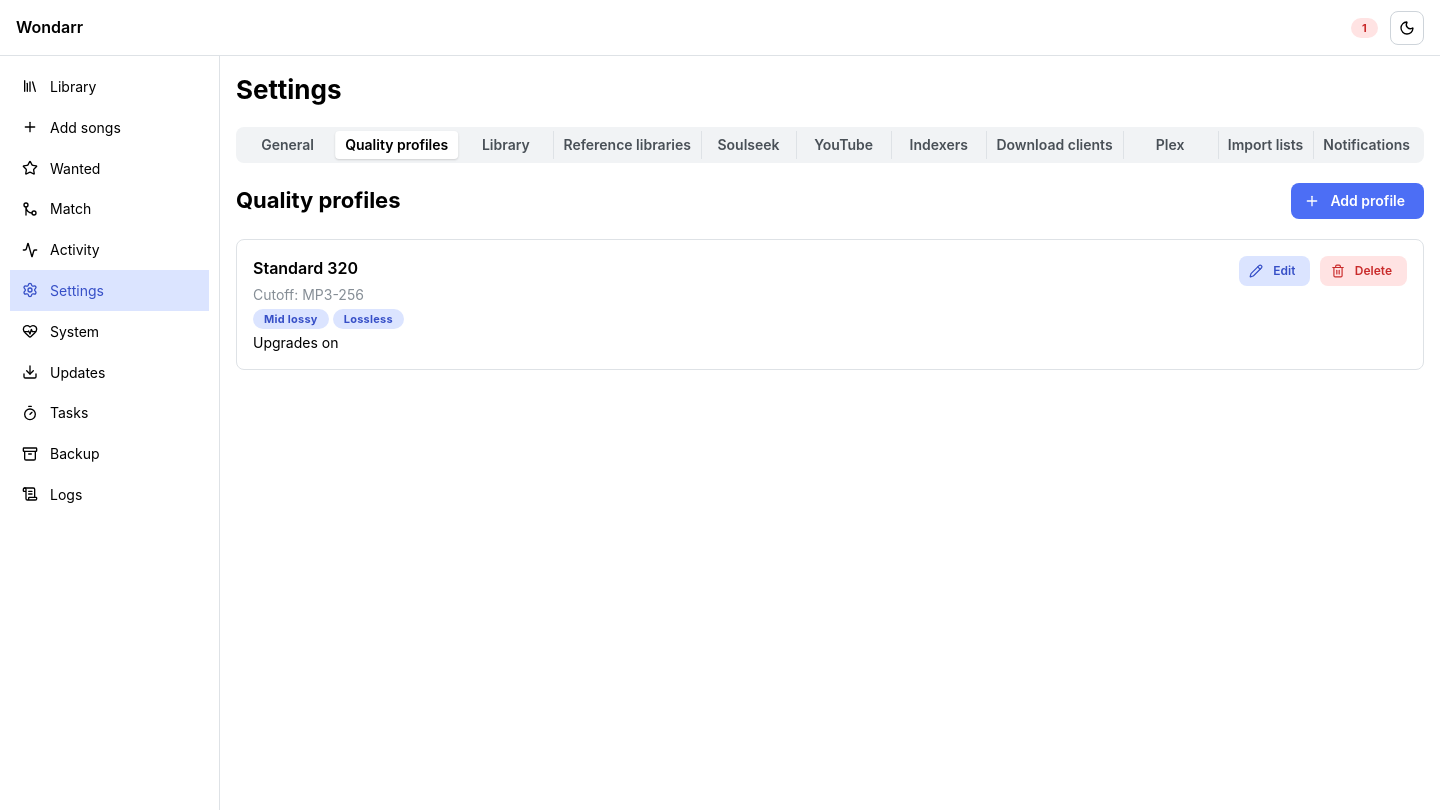
Test: QualityProfilesPage › shows the conflict when a profile is still in use
The width and height of the screenshot is (1440, 810).
Click the button "Delete": (1364, 271) left=1320, top=256, right=1407, bottom=286
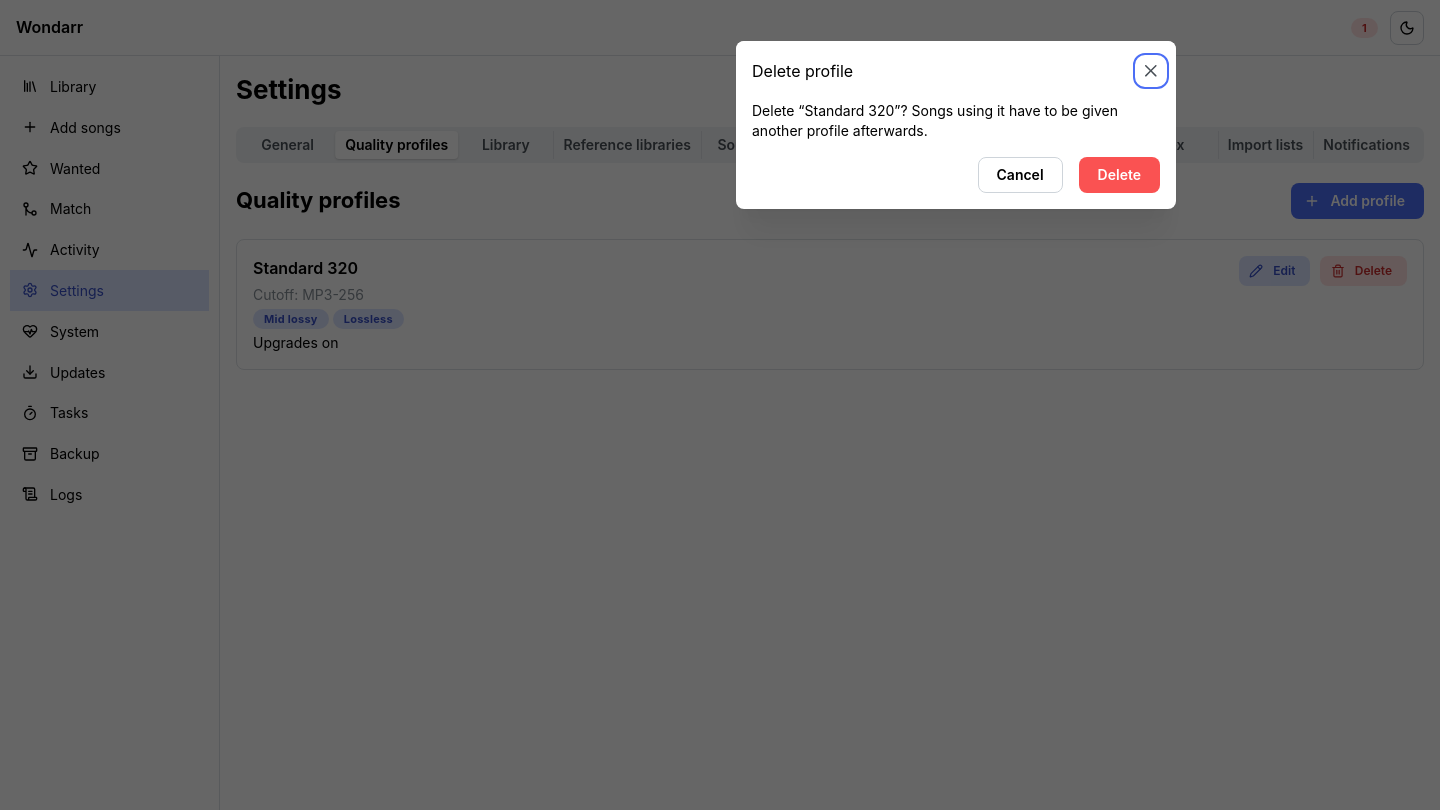
Click the button "Delete": (1119, 175) left=1079, top=157, right=1160, bottom=193
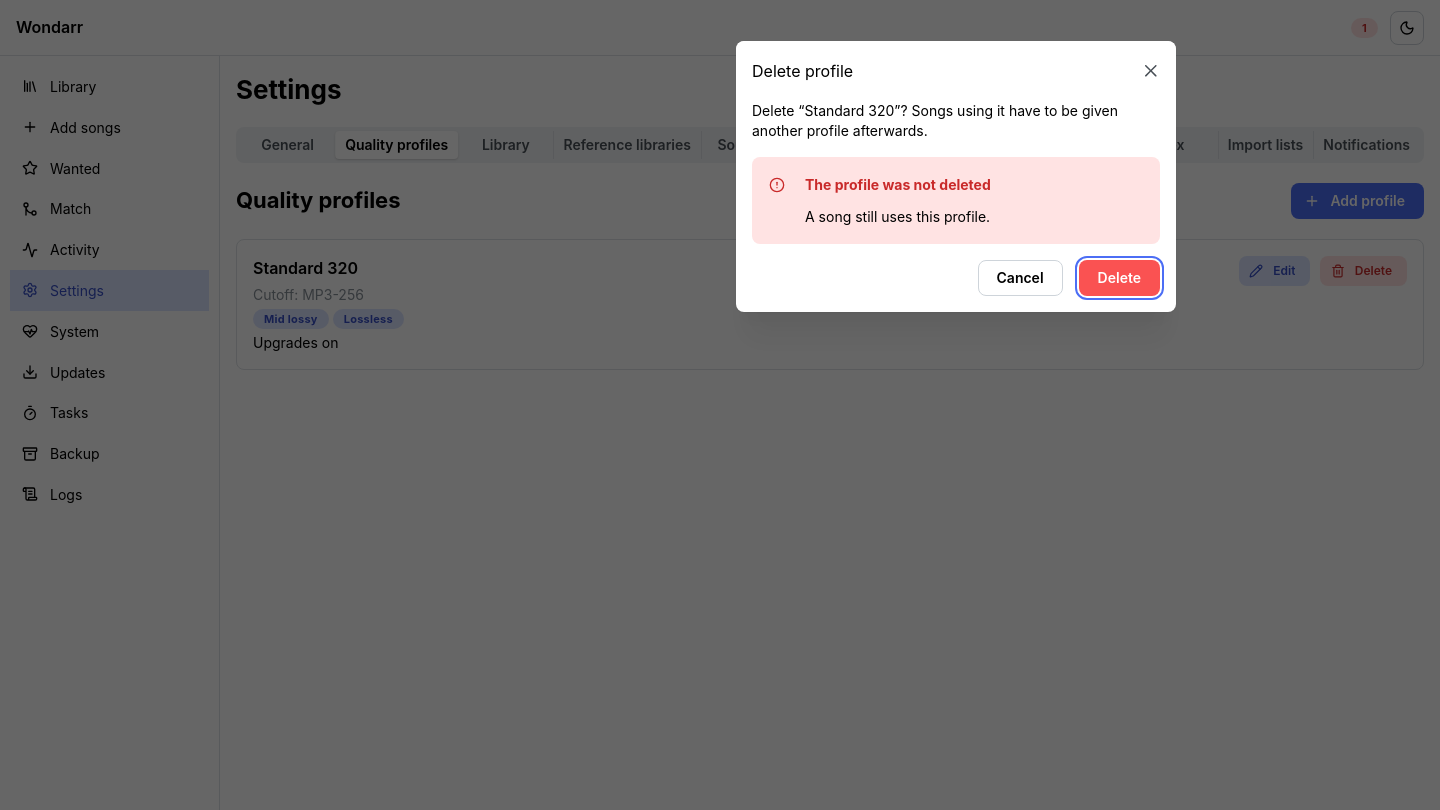
Expected: the text "A song still uses this profile." is shown, left=805, top=208, right=990, bottom=225
